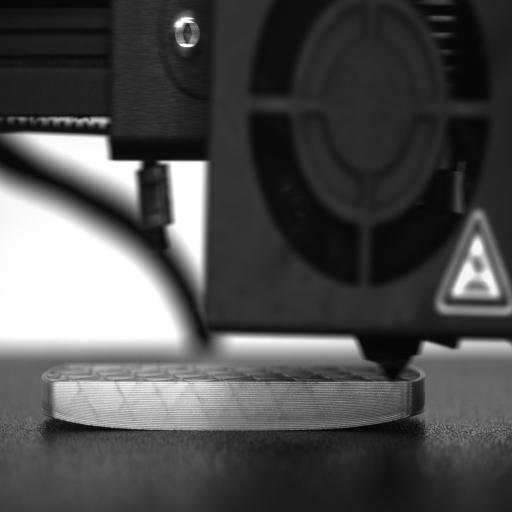warp: (37, 405, 113, 436), (364, 401, 432, 435)
